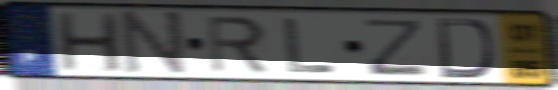D: (435, 16, 497, 80)
H: (54, 12, 126, 74)
L: (280, 16, 338, 75)
N: (121, 9, 189, 79)
R: (204, 14, 271, 75)
Z: (365, 17, 428, 77)
